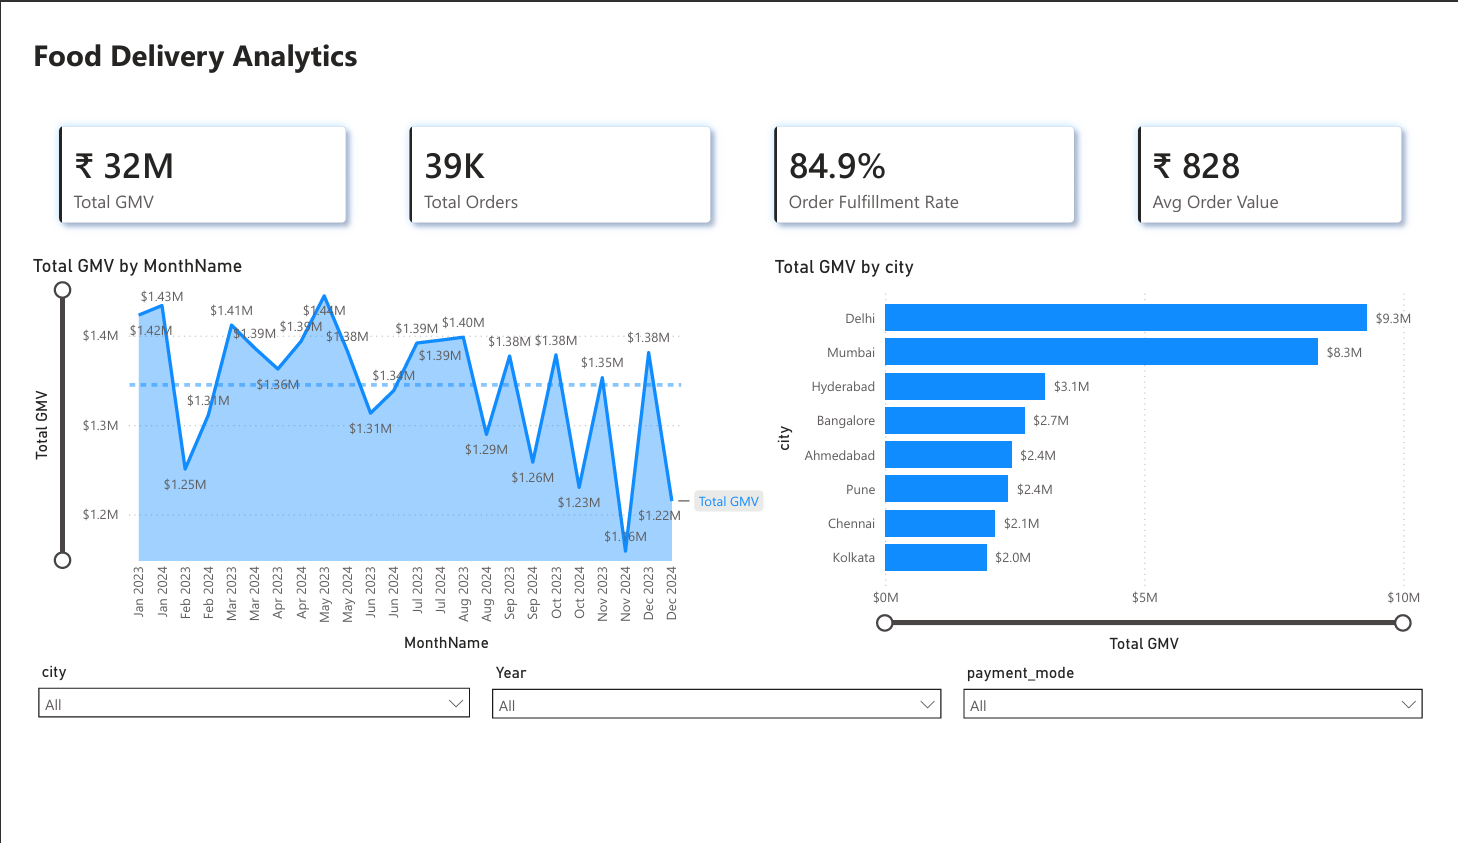

What the dashboard file says about the page in this screenshot:
{"tool":"powerbi","page":{"name":"Executive Summary","canvas":[1280,720],"ordinal":0},"visuals":[{"type":"cardVisual","fields":{"Data":["_Measures.Total GMV"]},"box":[0,59.8,318.6,146.1],"z":0},{"type":"cardVisual","fields":{"Data":["_Measures.Total Orders"]},"box":[318.6,59.8,332.5,146.1],"z":1000},{"type":"cardVisual","fields":{"Data":["_Measures.Order Fulfillment Rate"]},"box":[651.1,59.8,331.1,146.1],"z":2000},{"type":"cardVisual","fields":{"Data":["_Measures.Avg Order Value"]},"box":[982.3,59.8,297.7,146.1],"z":3000},{"type":"lineChart","fields":{"Y":["_Measures.Total GMV"],"Category":["DateTable.MonthName"]},"box":[0,205.9,674.8,365.9],"z":4000},{"type":"clusteredBarChart","fields":{"Category":["customers.city"],"Y":["_Measures.Total GMV"]},"box":[675.4,207.4,605.1,365.1],"z":5000},{"type":"slicer","fields":{"Values":["customers.city"]},"box":[0,571.8,413.2,148.9],"z":6000},{"type":"slicer","fields":{"Values":["DateTable.Year"]},"box":[413.2,573.2,428.5,147.5],"z":7000},{"type":"slicer","fields":{"Values":["orders.payment_mode"]},"box":[841.7,573.2,438.3,147.5],"z":8000},{"type":"textbox","box":[0,0,1280,59.8],"z":9000}]}

Visuals, with their boxes in screenshot pixels (x1, y1, x2, y2), scaled from the page's 1280x720 canvas onto the 1458x843 screenshot:
cardVisual - _Measures.Total GMV: bbox(0, 70, 363, 241)
cardVisual - _Measures.Total Orders: bbox(363, 70, 742, 241)
cardVisual - _Measures.Order Fulfillment Rate: bbox(742, 70, 1119, 241)
cardVisual - _Measures.Avg Order Value: bbox(1119, 70, 1457, 241)
lineChart - _Measures.Total GMV x DateTable.MonthName: bbox(0, 241, 769, 669)
clusteredBarChart - customers.city x _Measures.Total GMV: bbox(769, 243, 1457, 670)
slicer - customers.city: bbox(0, 669, 471, 842)
slicer - DateTable.Year: bbox(471, 671, 959, 842)
slicer - orders.payment_mode: bbox(959, 671, 1457, 842)
textbox: bbox(0, 0, 1457, 70)
